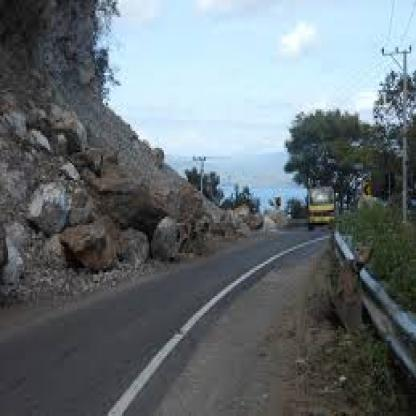car: (299, 167, 339, 233)
